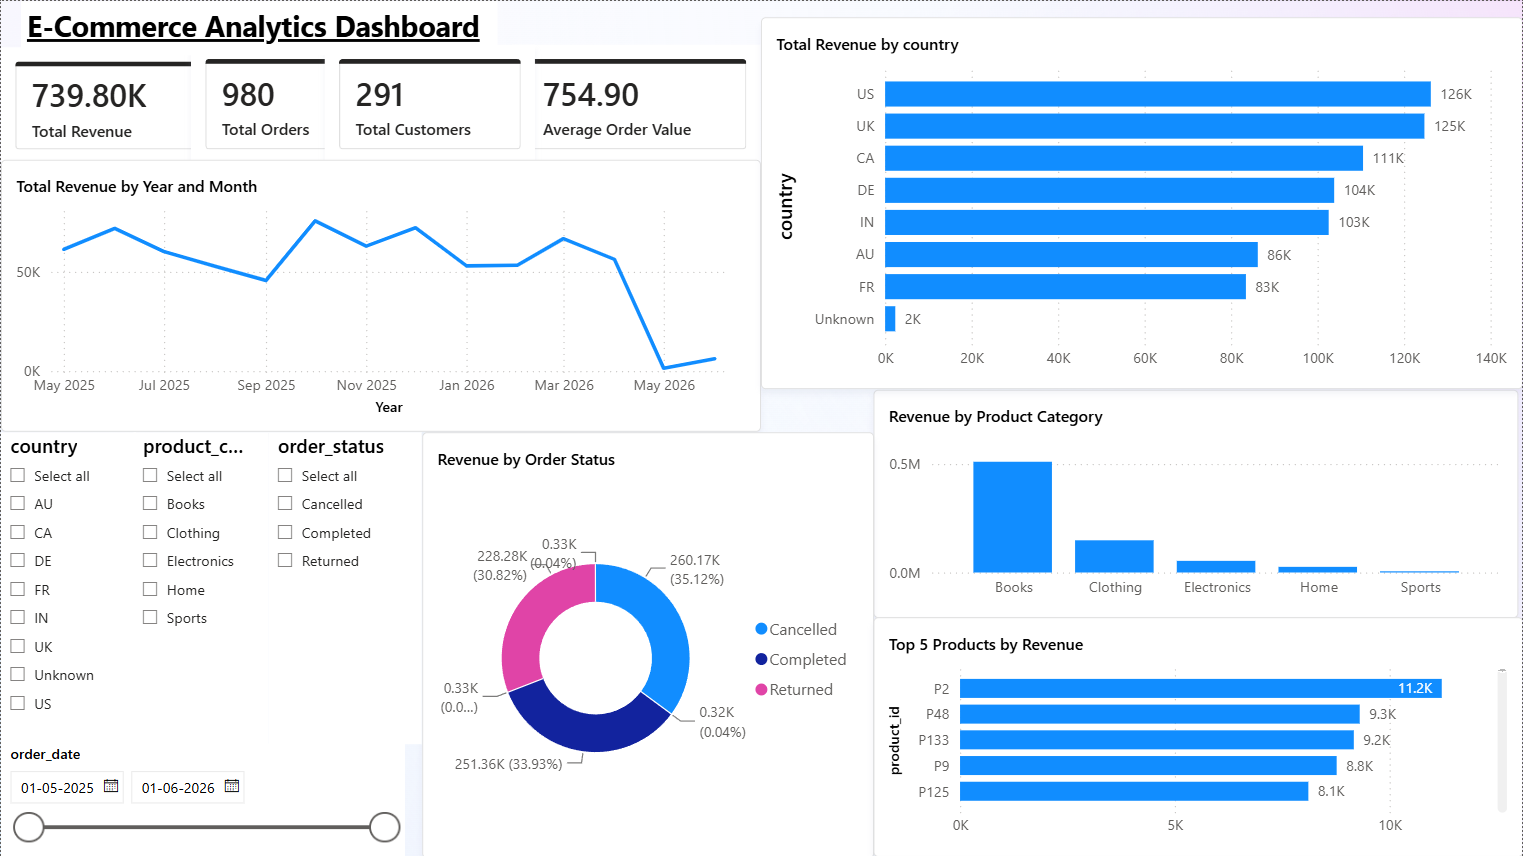

What the dashboard file says about the page in this screenshot:
{"tool":"powerbi","page":{"name":"Page 1","canvas":[1280,720],"ordinal":0},"visuals":[{"type":"cardVisual","fields":{"Data":["dev_schema fct_order.Total Revenue"]},"box":[0,38.4,192.1,98.8],"z":0},{"type":"cardVisual","fields":{"Data":["dev_schema fct_order.Total Orders"]},"box":[159.6,37,145.5,100.2],"z":1000},{"type":"cardVisual","fields":{"Data":["dev_schema fct_order.Average Order Value"]},"box":[417.2,34.3,209.9,108.4],"z":2000},{"type":"cardVisual","fields":{"Data":["dev_schema dim_customer.Total Customers"]},"box":[272.6,37,177,100.2],"z":3000},{"type":"lineChart","fields":{"Y":["dev_schema fct_order.Total Revenue"],"Category":["dev_schema fct_order.order_date.Variation.Date Hierarchy.Year","dev_schema fct_order.order_date.Variation.Date Hierarchy.Month"]},"box":[0,133.1,639.5,229.2],"z":4000},{"type":"clusteredColumnChart","title":"Revenue by Product Category","fields":{"Category":["dev_schema dim_product.product_category"],"Y":["dev_schema fct_order.Total Revenue"]},"box":[734.1,326.6,542,192.1],"z":5000},{"type":"donutChart","title":"Revenue by Order Status","fields":{"Category":["dev_schema fct_order.order_status"],"Y":["dev_schema fct_order.Total Revenue","CountNonNull(dev_schema fct_order.transaction_id)"]},"box":[354,362.3,380.1,358.1],"z":6000},{"type":"slicer","fields":{"Values":["dev_schema dim_customer.country"]},"box":[0,362.3,113.9,262.1],"z":7000},{"type":"slicer","fields":{"Values":["dev_schema dim_product.product_category"]},"box":[111.1,362.3,113.9,262.1],"z":8000},{"type":"slicer","fields":{"Values":["dev_schema fct_order.order_status"]},"box":[225,362.3,129,262.1],"z":9000},{"type":"slicer","fields":{"Values":["dev_schema fct_order.order_date"]},"box":[0,624.4,338.9,96.1],"z":10000},{"type":"barChart","fields":{"Category":["dev_schema dim_customer.country"],"Y":["dev_schema fct_order.Total Revenue"]},"box":[639.5,13.7,640.8,312.9],"z":11000},{"type":"clusteredBarChart","title":"Top 5 Products by Revenue","fields":{"Category":["dev_schema fct_order.product_id"],"Y":["dev_schema fct_order.Total Revenue"]},"box":[753.3,529.7,526.9,190.7],"z":12000},{"type":"textbox","box":[16.5,0,400.7,45.3],"z":13000}]}

Visuals, with their boxes in screenshot pixels (x1, y1, x2, y2), scaled from the page's 1280x720 canvas onto the 1523x856 screenshot:
cardVisual - dev_schema fct_order.Total Revenue: x1=0, y1=46, x2=229, y2=163
cardVisual - dev_schema fct_order.Total Orders: x1=190, y1=44, x2=363, y2=163
cardVisual - dev_schema fct_order.Average Order Value: x1=496, y1=41, x2=746, y2=170
cardVisual - dev_schema dim_customer.Total Customers: x1=324, y1=44, x2=535, y2=163
lineChart - dev_schema fct_order.Total Revenue x dev_schema fct_order.order_date.Variation.Date Hierarchy.Year: x1=0, y1=158, x2=761, y2=431
"Revenue by Product Category" clusteredColumnChart: x1=873, y1=388, x2=1518, y2=617
"Revenue by Order Status" donutChart: x1=421, y1=431, x2=873, y2=855
slicer - dev_schema dim_customer.country: x1=0, y1=431, x2=136, y2=742
slicer - dev_schema dim_product.product_category: x1=132, y1=431, x2=268, y2=742
slicer - dev_schema fct_order.order_status: x1=268, y1=431, x2=421, y2=742
slicer - dev_schema fct_order.order_date: x1=0, y1=742, x2=403, y2=855
barChart - dev_schema dim_customer.country x dev_schema fct_order.Total Revenue: x1=761, y1=16, x2=1522, y2=388
"Top 5 Products by Revenue" clusteredBarChart: x1=896, y1=630, x2=1522, y2=855
textbox: x1=20, y1=0, x2=496, y2=54
